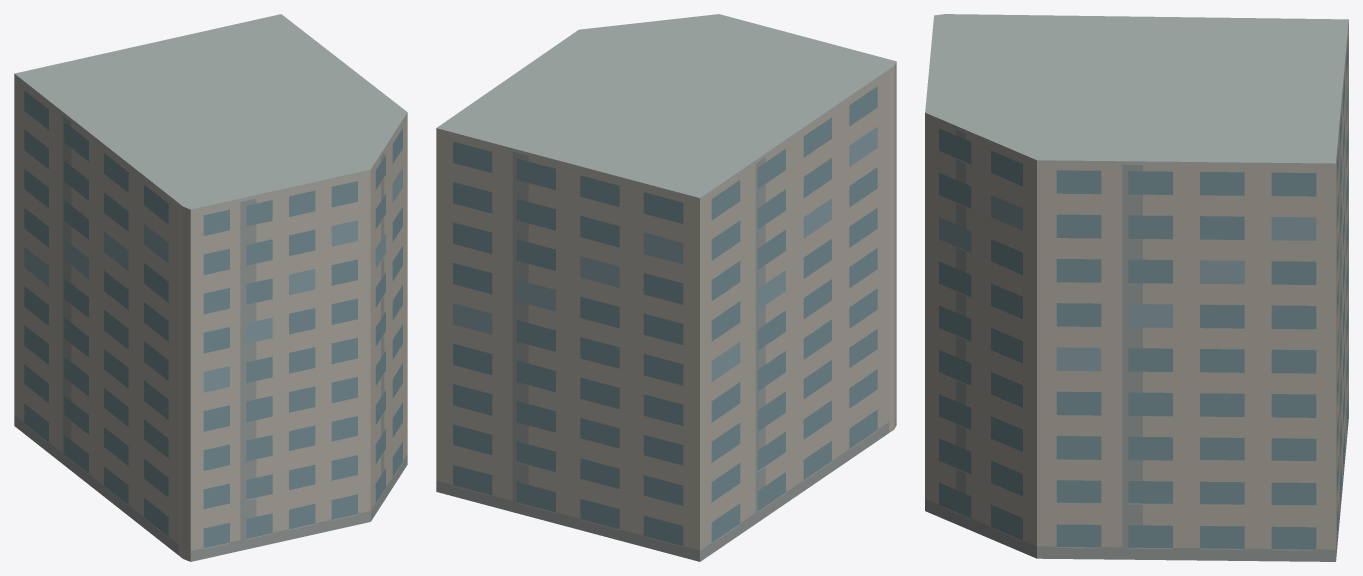
Rendered from survey-upis-32632510.glb.
3 views of the same model, side by side, from view 1: azimuth 30°, elevation 25°; view 2: azimuth 150°, elevation 25°; view 3: azimuth 270°, elevation 25° (orthographic). The views are drawn at different scales.
Visible parts, largest first — view 1: survey-upis-32632510.tmp; view 2: survey-upis-32632510.tmp; view 3: survey-upis-32632510.tmp.
Boxes of the visible parts, x1,y1,x2,y2 form: survey-upis-32632510.tmp: [14, 14, 407, 561]; survey-upis-32632510.tmp: [436, 14, 896, 561]; survey-upis-32632510.tmp: [925, 14, 1348, 561].
Size of the model in its own units: 20.45 by 25.4 by 24.49.
